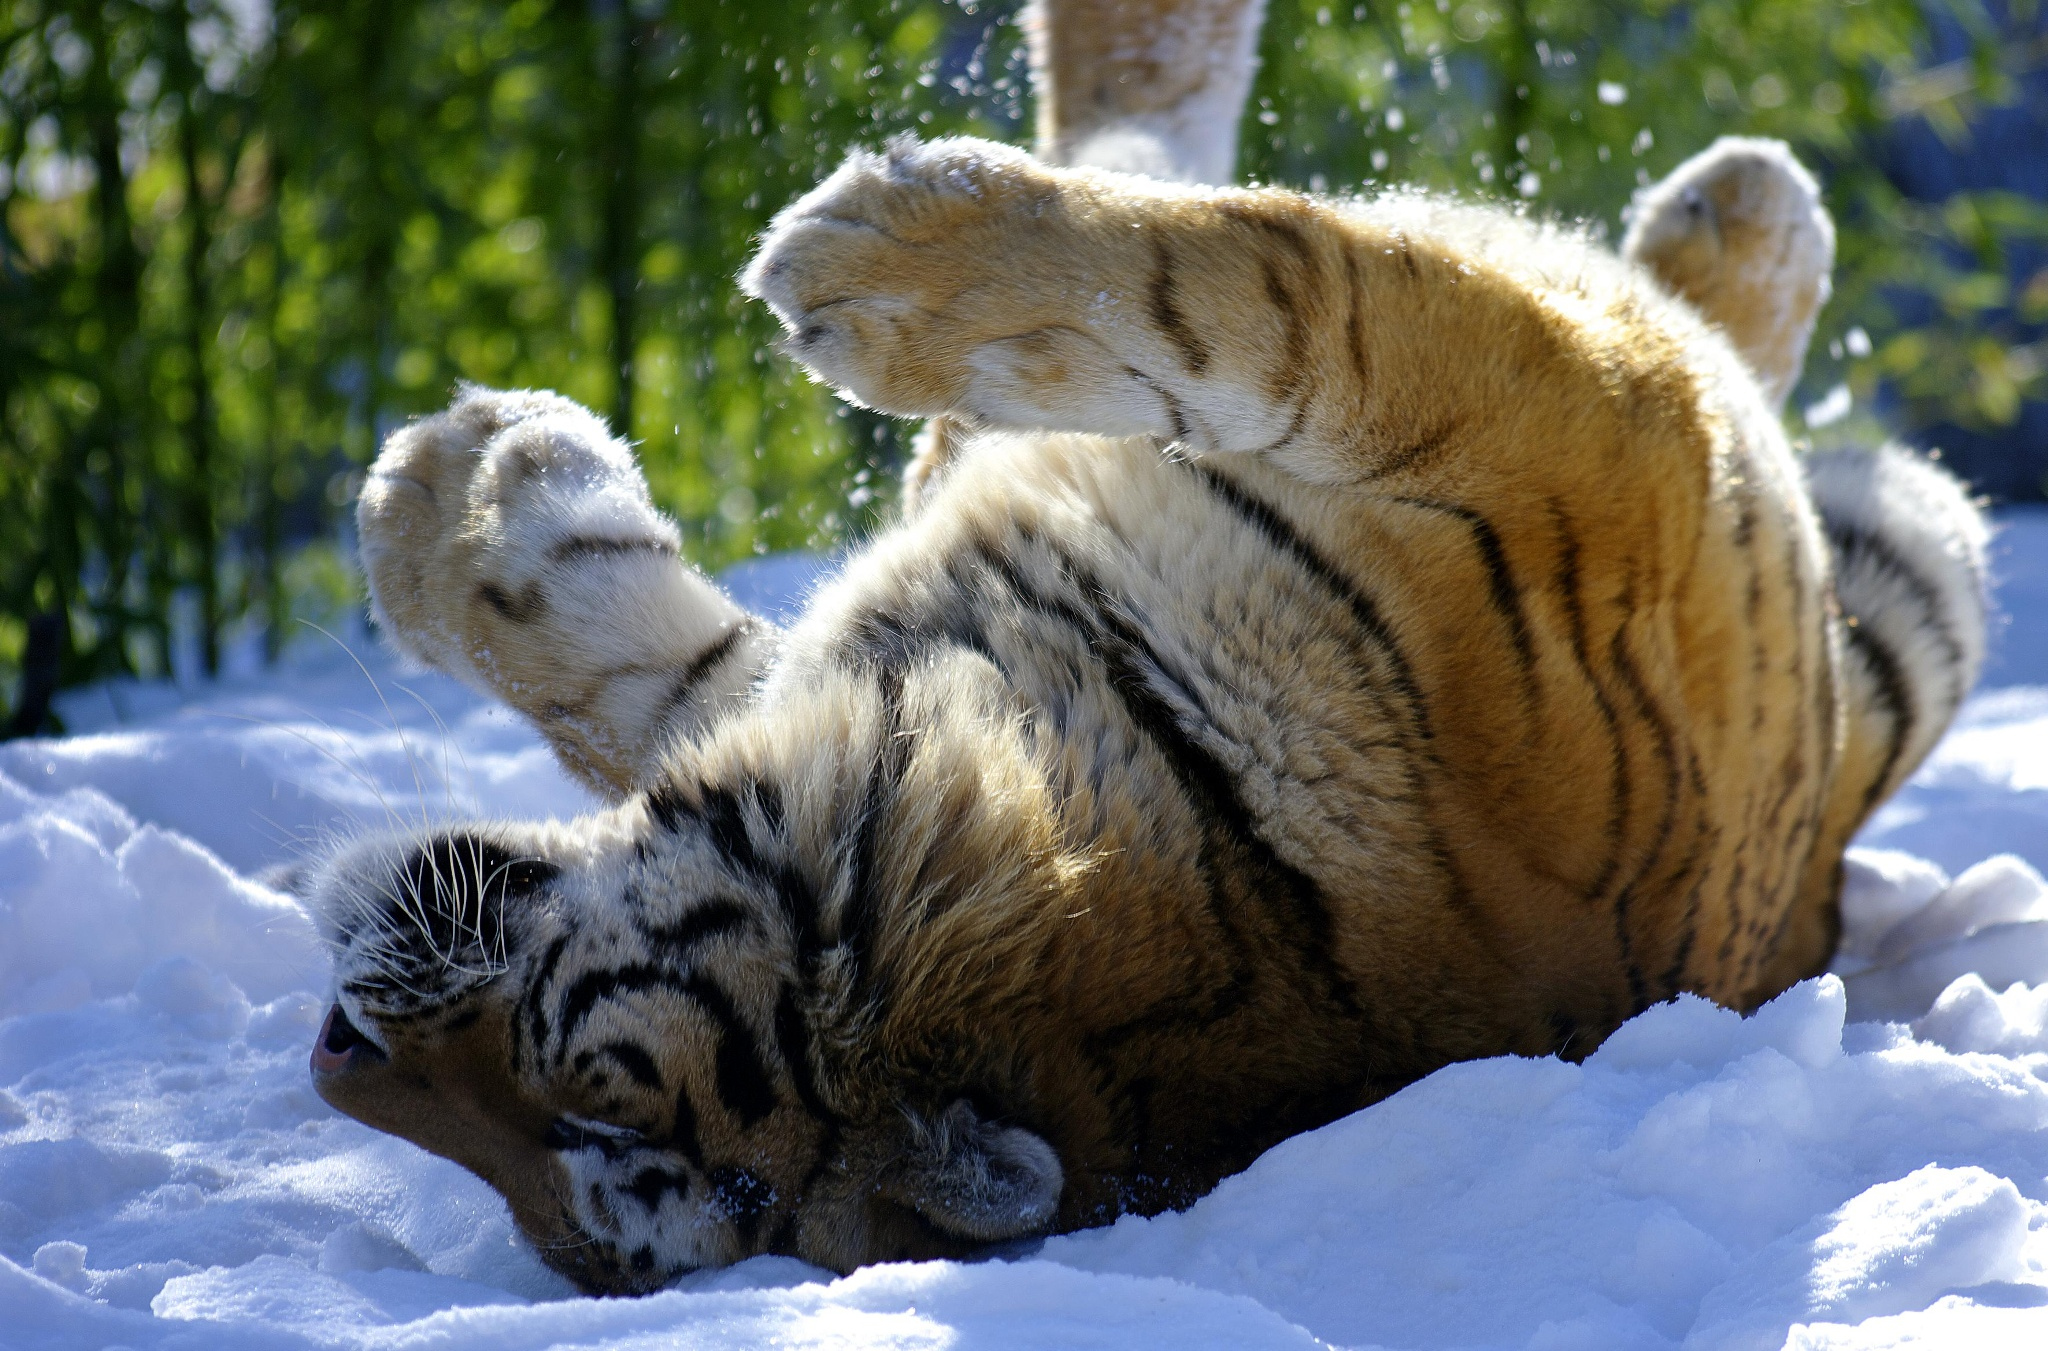tiger: (350, 139, 1964, 1273)
